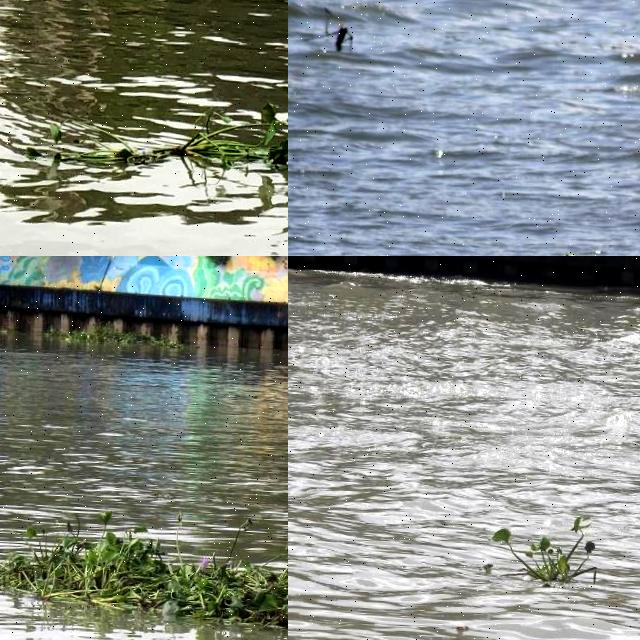water-hyacinth: (5, 62, 289, 195), (1, 515, 289, 640), (483, 510, 609, 599)
